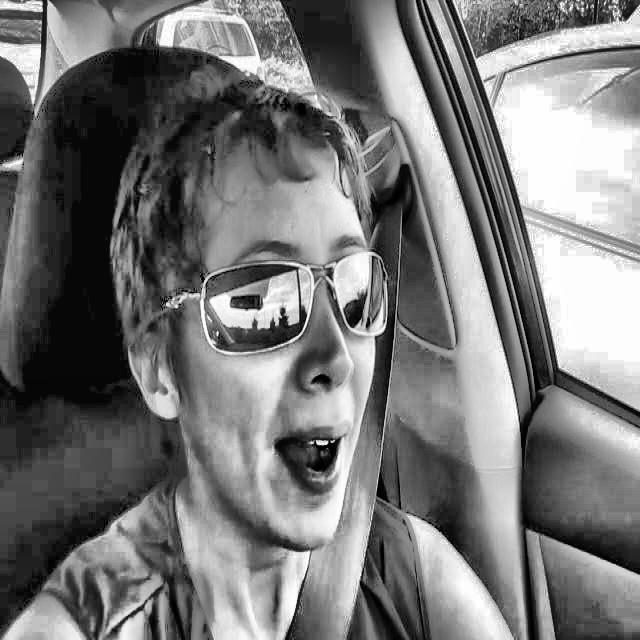open_mouth: (253, 403, 375, 514)
